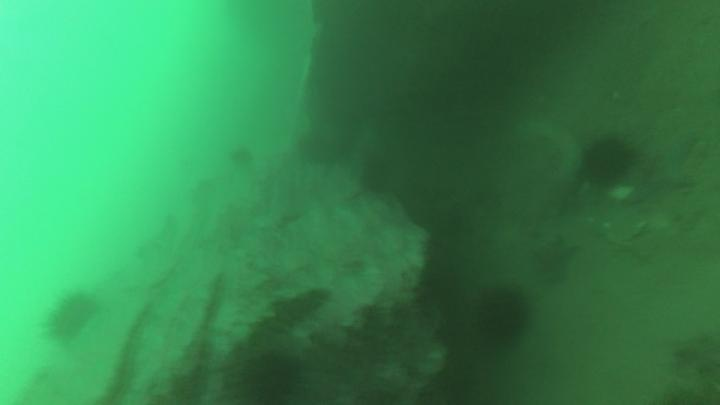echinus: (461, 276, 537, 357), (222, 343, 306, 405), (571, 123, 639, 197), (36, 289, 105, 346)
starfish: (632, 130, 699, 207), (528, 232, 579, 292)
